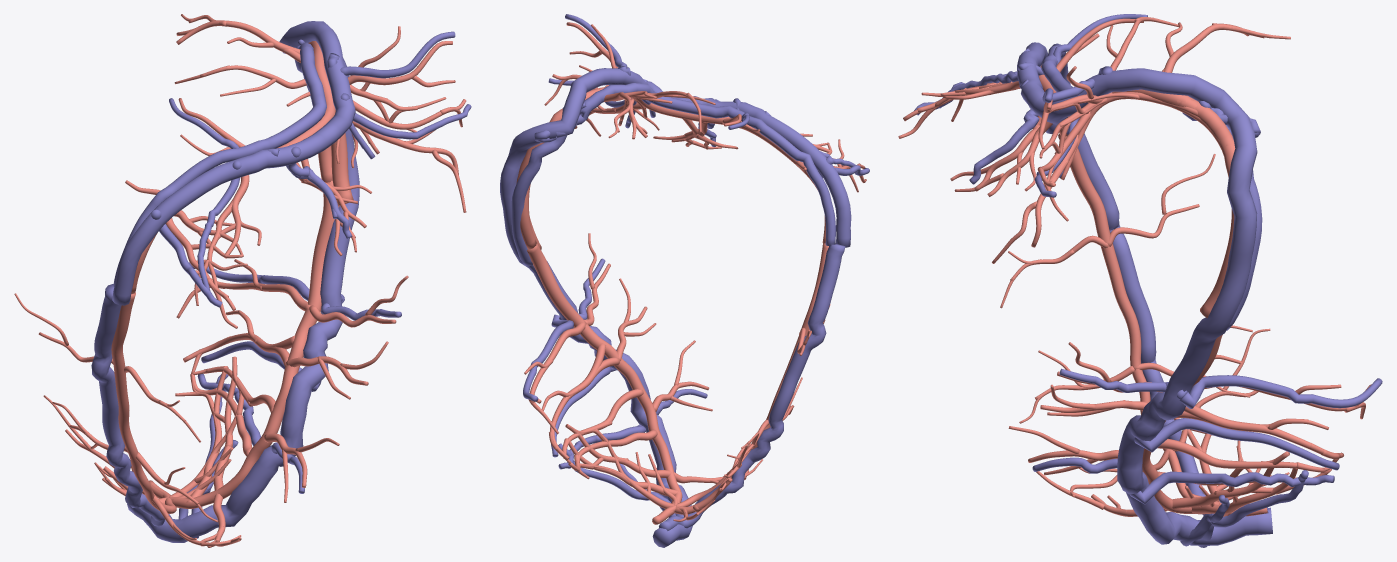
The model's file is vessels_11.glb.
3 views of the same model, side by side, from view 1: azimuth 30°, elevation 25°; view 2: azimuth 150°, elevation 25°; view 3: azimuth 270°, elevation 25° (orthographic). The views are drawn at different scales.
Parts seen in each view (by area): view 1: Renderer Node; view 2: Renderer Node; view 3: Renderer Node.
Boxes of the visible parts, x1,y1,x2,y2 form: Renderer Node: [14, 14, 471, 547]; Renderer Node: [500, 14, 869, 547]; Renderer Node: [898, 14, 1382, 547].
Bounding box in the file's own units: 95.29 × 124 × 95.39.
